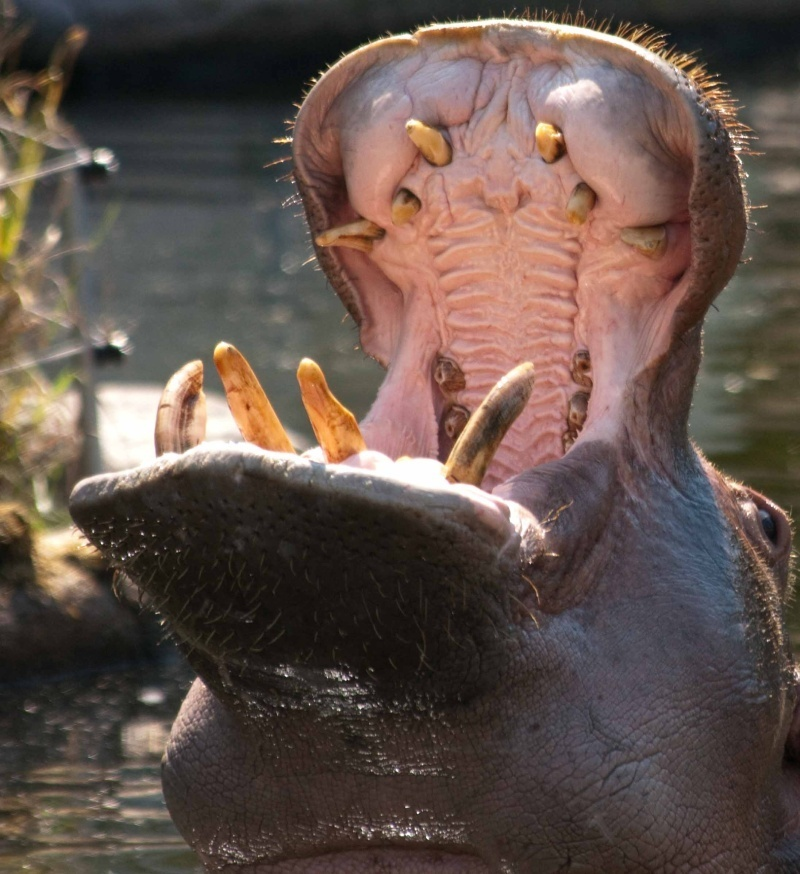hipopotamo: (68, 6, 800, 874)
